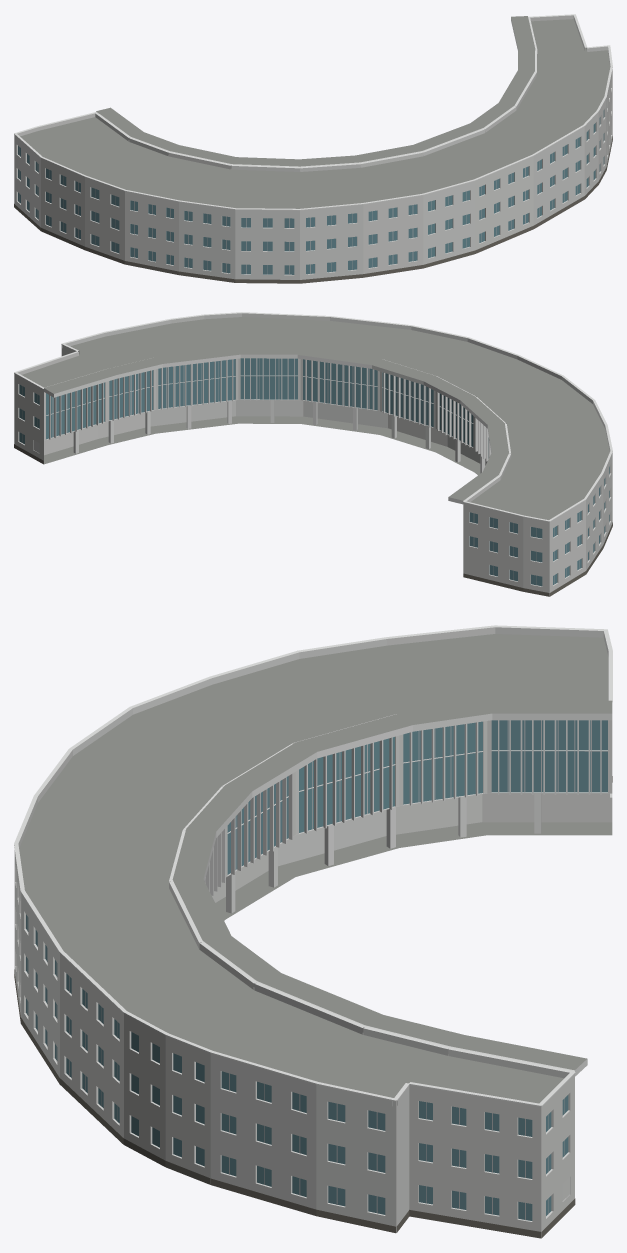
3 views of the same model, one above another, from view 1: azimuth 30°, elevation 25°; view 2: azimuth 150°, elevation 25°; view 3: azimuth 270°, elevation 25° (orthographic). The views are drawn at different scales.
Visible parts, largest first — view 1: studentUnion2__wall, studentUnion2__roof, studentUnion2__glass, studentUnion2__parapet, studentUnion2__trim, studentUnion2__base, studentUnion2__frame, studentUnion2__soffit; view 2: studentUnion2__roof, studentUnion2__wall, studentUnion2__glass, studentUnion2__trim, studentUnion2__parapet, studentUnion2__frame, studentUnion2__column, studentUnion2__base; view 3: studentUnion2__roof, studentUnion2__wall, studentUnion2__glass, studentUnion2__trim, studentUnion2__parapet, studentUnion2__base, studentUnion2__frame, studentUnion2__column.
Part boxes in pixels (x1,y1,x2,y2): studentUnion2__wall: (14,71,612,279); studentUnion2__roof: (20,16,610,283); studentUnion2__glass: (18,110,604,274); studentUnion2__parapet: (14,15,612,213); studentUnion2__trim: (14,14,612,210); studentUnion2__base: (14,136,612,283); studentUnion2__frame: (19,139,577,274); studentUnion2__soffit: (99,83,527,167); studentUnion2__roof: (22,317,609,519); studentUnion2__wall: (14,348,612,596); studentUnion2__glass: (19,358,609,586); studentUnion2__trim: (14,312,612,521); studentUnion2__parapet: (14,313,612,524); studentUnion2__frame: (22,358,587,584); studentUnion2__column: (73,400,485,473); studentUnion2__base: (14,444,612,596); studentUnion2__roof: (19,634,612,1103); studentUnion2__wall: (14,720,612,1237); studentUnion2__glass: (26,720,607,1220); studentUnion2__trim: (14,625,612,1106); studentUnion2__parapet: (18,627,608,1111); studentUnion2__base: (14,776,612,1238); studentUnion2__frame: (27,720,607,1220); studentUnion2__column: (226,793,541,913).
Bounding box in the file's own units: 93.13 × 12.17 × 49.07.
